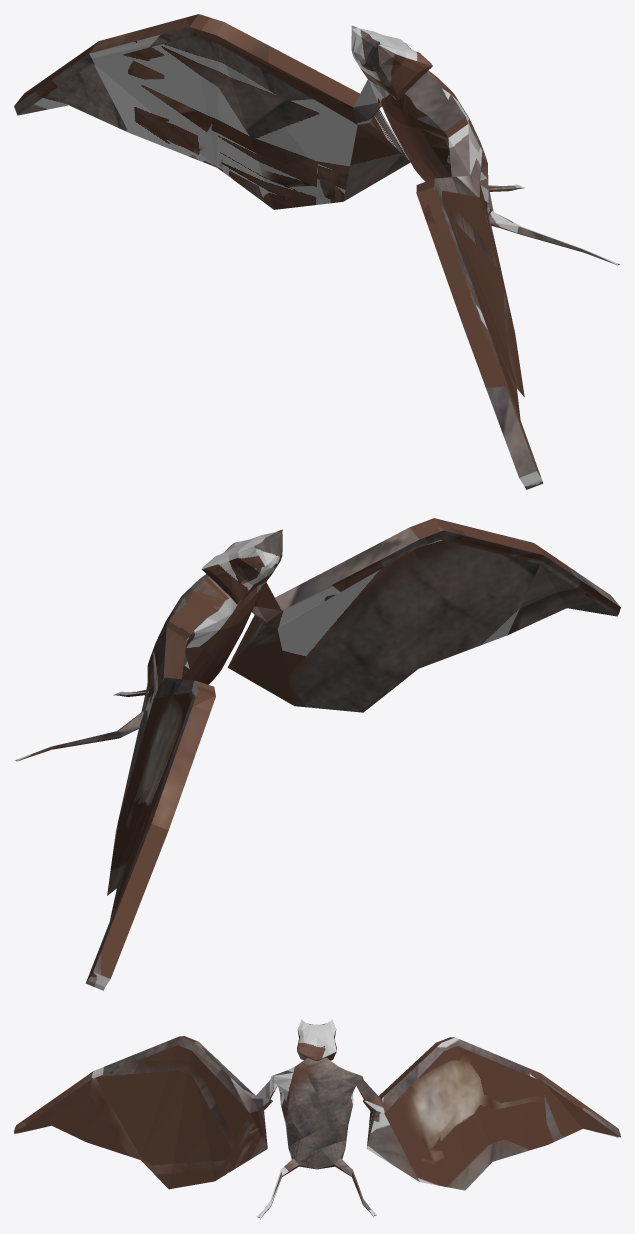
The model's file is Enemigo113.obj.
3 renders of one model, top to bottom at view 1: azimuth 30°, elevation 25°; view 2: azimuth 150°, elevation 25°; view 3: azimuth 270°, elevation 25°, orthographic. The views are drawn at different scales.
Visible parts, largest first — view 1: Plano; view 2: Plano; view 3: Plano.
Boxes of the visible parts, x1,y1,x2,y2 form: Plano: (14, 14, 620, 489); Plano: (15, 518, 620, 990); Plano: (14, 1019, 620, 1219).
Bounding box in the file's own units: 0.7305 × 0.6235 × 2.13.
Materials: 1 (1 with a texture image).
